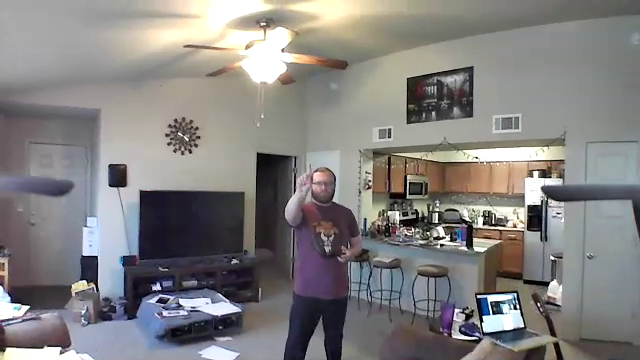up: (294, 160, 312, 189)
